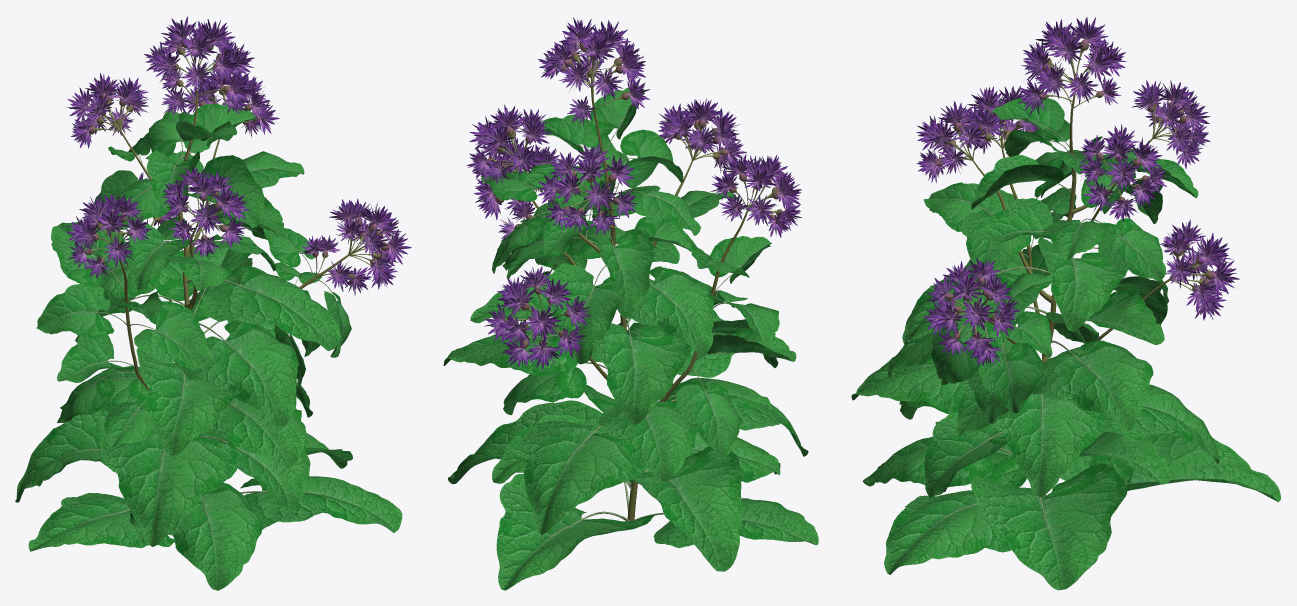
The model's file is cgaxis_models_91_39_fbx.fbx.
3 views of the same model, side by side, from view 1: azimuth 30°, elevation 25°; view 2: azimuth 150°, elevation 25°; view 3: azimuth 270°, elevation 25° (orthographic). The views are drawn at different scales.
Parts seen in each view (by area): view 1: cgaxis_models_91_39_01; view 2: cgaxis_models_91_39_01; view 3: cgaxis_models_91_39_01.
Boxes of the visible parts, <box> form: cgaxis_models_91_39_01: <box>15,16,411,590</box>; cgaxis_models_91_39_01: <box>443,17,818,590</box>; cgaxis_models_91_39_01: <box>851,17,1280,590</box>.
Bounding box in the file's own units: 23.91 × 31.72 × 24.53.
1 material, 1 textured.
